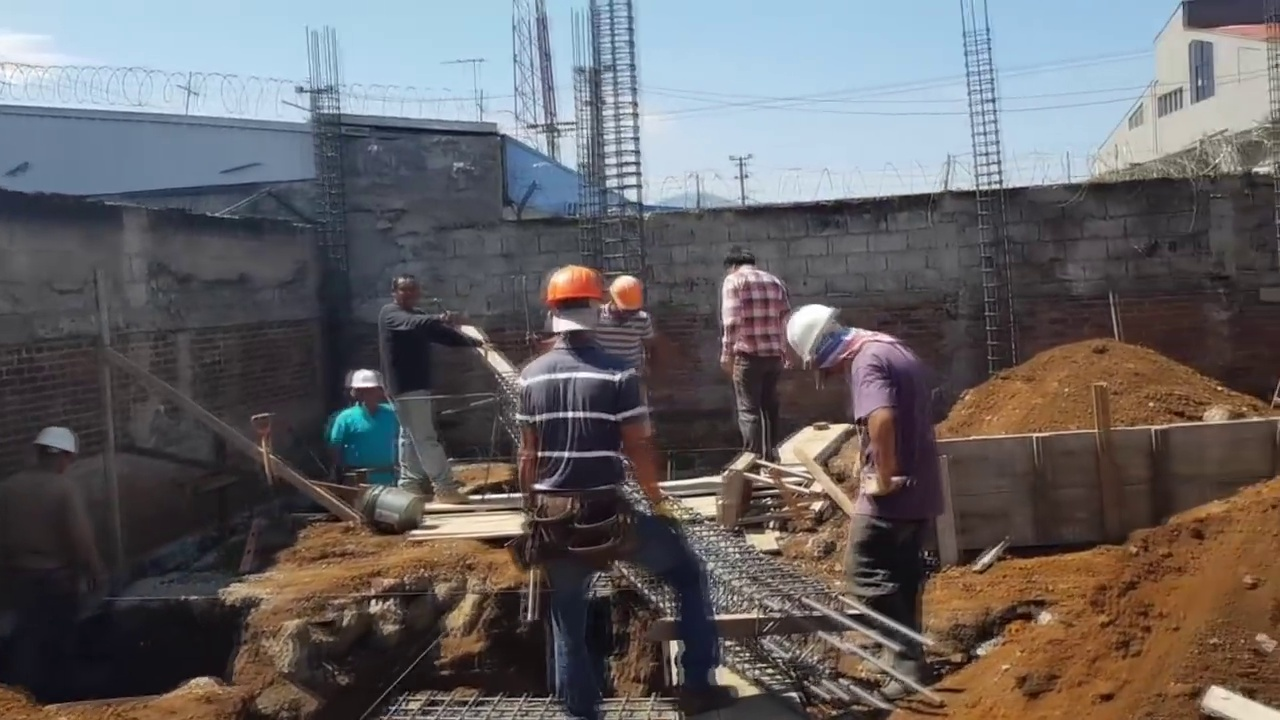helmet: (538, 268, 615, 314), (785, 305, 839, 369), (605, 275, 643, 310), (33, 427, 78, 455), (347, 370, 379, 389)
helmet-off: (725, 245, 759, 279), (385, 277, 416, 309)
helmet-on: (538, 268, 606, 351), (784, 305, 861, 375), (26, 426, 80, 478), (604, 273, 642, 321), (345, 370, 380, 410)
person: (522, 268, 710, 716), (781, 305, 944, 692), (367, 274, 493, 507), (7, 422, 100, 690), (717, 244, 805, 472), (315, 369, 405, 493), (595, 277, 662, 437)
